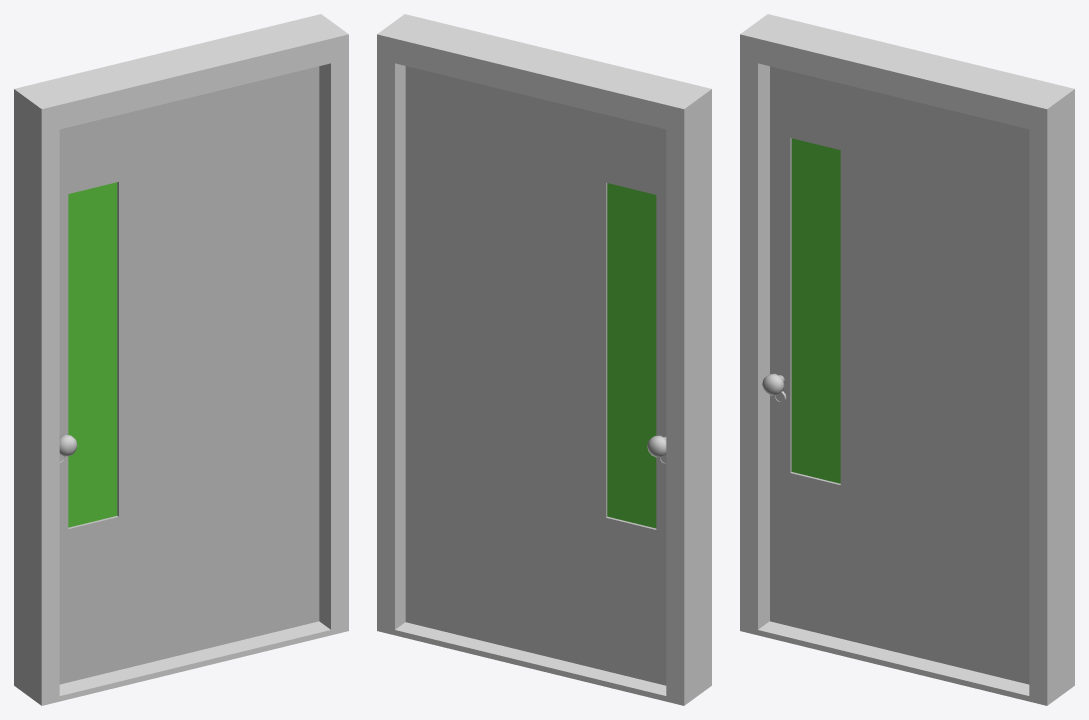
File: Door.fbx
3 views of the same model, side by side, from view 1: azimuth 30°, elevation 25°; view 2: azimuth 150°, elevation 25°; view 3: azimuth 330°, elevation 25° (orthographic).
Visible parts, largest first — view 1: Door, Door frame.001; view 2: Door, Door frame.001; view 3: Door, Door frame.001.
Boxes of the visible parts, box(x1,y1,x2,y2) form: Door: box(59, 66, 319, 684); Door frame.001: box(14, 14, 348, 705); Door: box(405, 66, 666, 685); Door frame.001: box(377, 14, 711, 705); Door: box(762, 66, 1029, 684); Door frame.001: box(740, 14, 1074, 705).
Size of the model in its own units: 1.12 by 2.08 by 0.1855.
